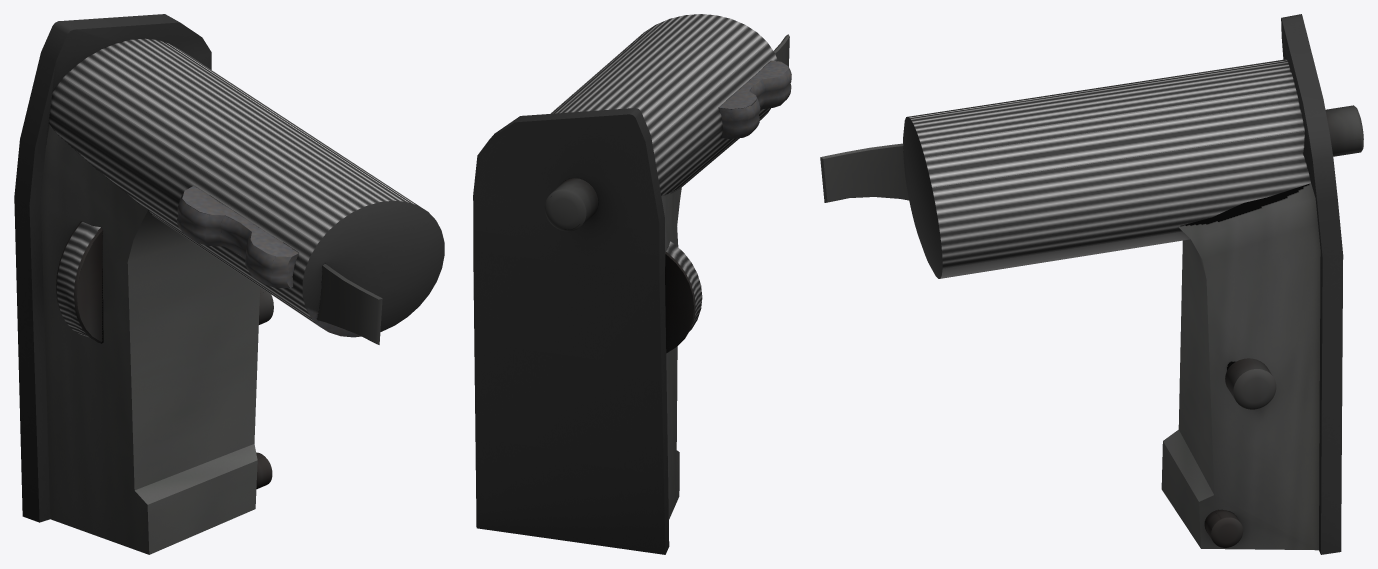
Rendered from throttle.fbx.
3 views of the same model, side by side, from view 1: azimuth 30°, elevation 25°; view 2: azimuth 150°, elevation 25°; view 3: azimuth 270°, elevation 25° (orthographic). The views are drawn at different scales.
Visible parts, largest first — view 1: throttle.throttle, throttle.selectguns, throttle.calageantenne, throttle.lanceleurres; view 2: throttle.throttle, throttle.selectguns, throttle.calageantenne, throttle.accrocheradar; view 3: throttle.throttle, throttle.lanceleurres, throttle.altradio, throttle.accrocheradar, throttle.rearmcalcul.
Part boxes in pixels (box(x1,y1,x2,y2)): throttle.throttle: box(14, 14, 444, 554); throttle.selectguns: box(177, 186, 298, 287); throttle.calageantenne: box(56, 221, 103, 343); throttle.lanceleurres: box(317, 263, 382, 344); throttle.throttle: box(473, 14, 777, 554); throttle.selectguns: box(718, 60, 791, 138); throttle.calageantenne: box(665, 241, 702, 353); throttle.accrocheradar: box(544, 178, 598, 231); throttle.throttle: box(903, 14, 1343, 554); throttle.lanceleurres: box(820, 143, 909, 202); throttle.altradio: box(1225, 358, 1276, 409); throttle.accrocheradar: box(1325, 105, 1363, 156); throttle.rearmcalcul: box(1204, 510, 1243, 547).
Bounding box in the file's own units: 5.19 × 10.71 × 10.13.
Materials: 1 (1 with a texture image).
